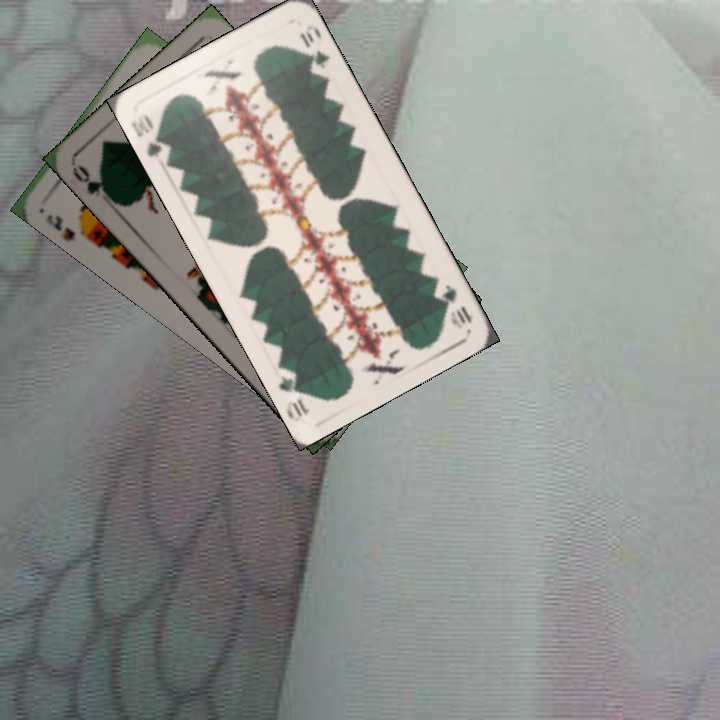G10: (127, 111, 171, 160), (435, 280, 475, 331)
GO: (68, 160, 118, 207)
S9: (41, 210, 88, 245)
